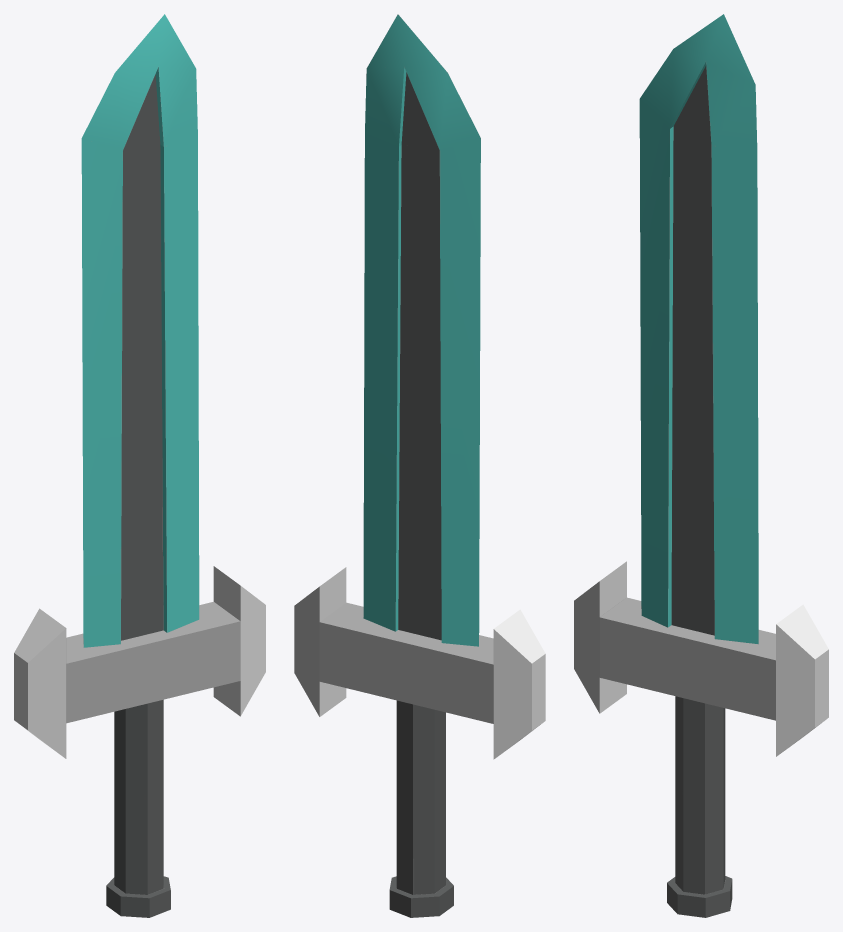
File: Sword Alien Space.fbx
3 views of the same model, side by side, from view 1: azimuth 30°, elevation 25°; view 2: azimuth 150°, elevation 25°; view 3: azimuth 330°, elevation 25° (orthographic).
Visible parts, largest first — view 1: pCylinder4; view 2: pCylinder4; view 3: pCylinder4.
Part boxes in pixels (x1,y1,x2,y2): pCylinder4: [14, 14, 265, 917]; pCylinder4: [294, 14, 545, 917]; pCylinder4: [574, 14, 828, 917].
Bounding box in the file's own units: 2.69 × 9.58 × 0.641.
Materials: 1 (1 with a texture image).
